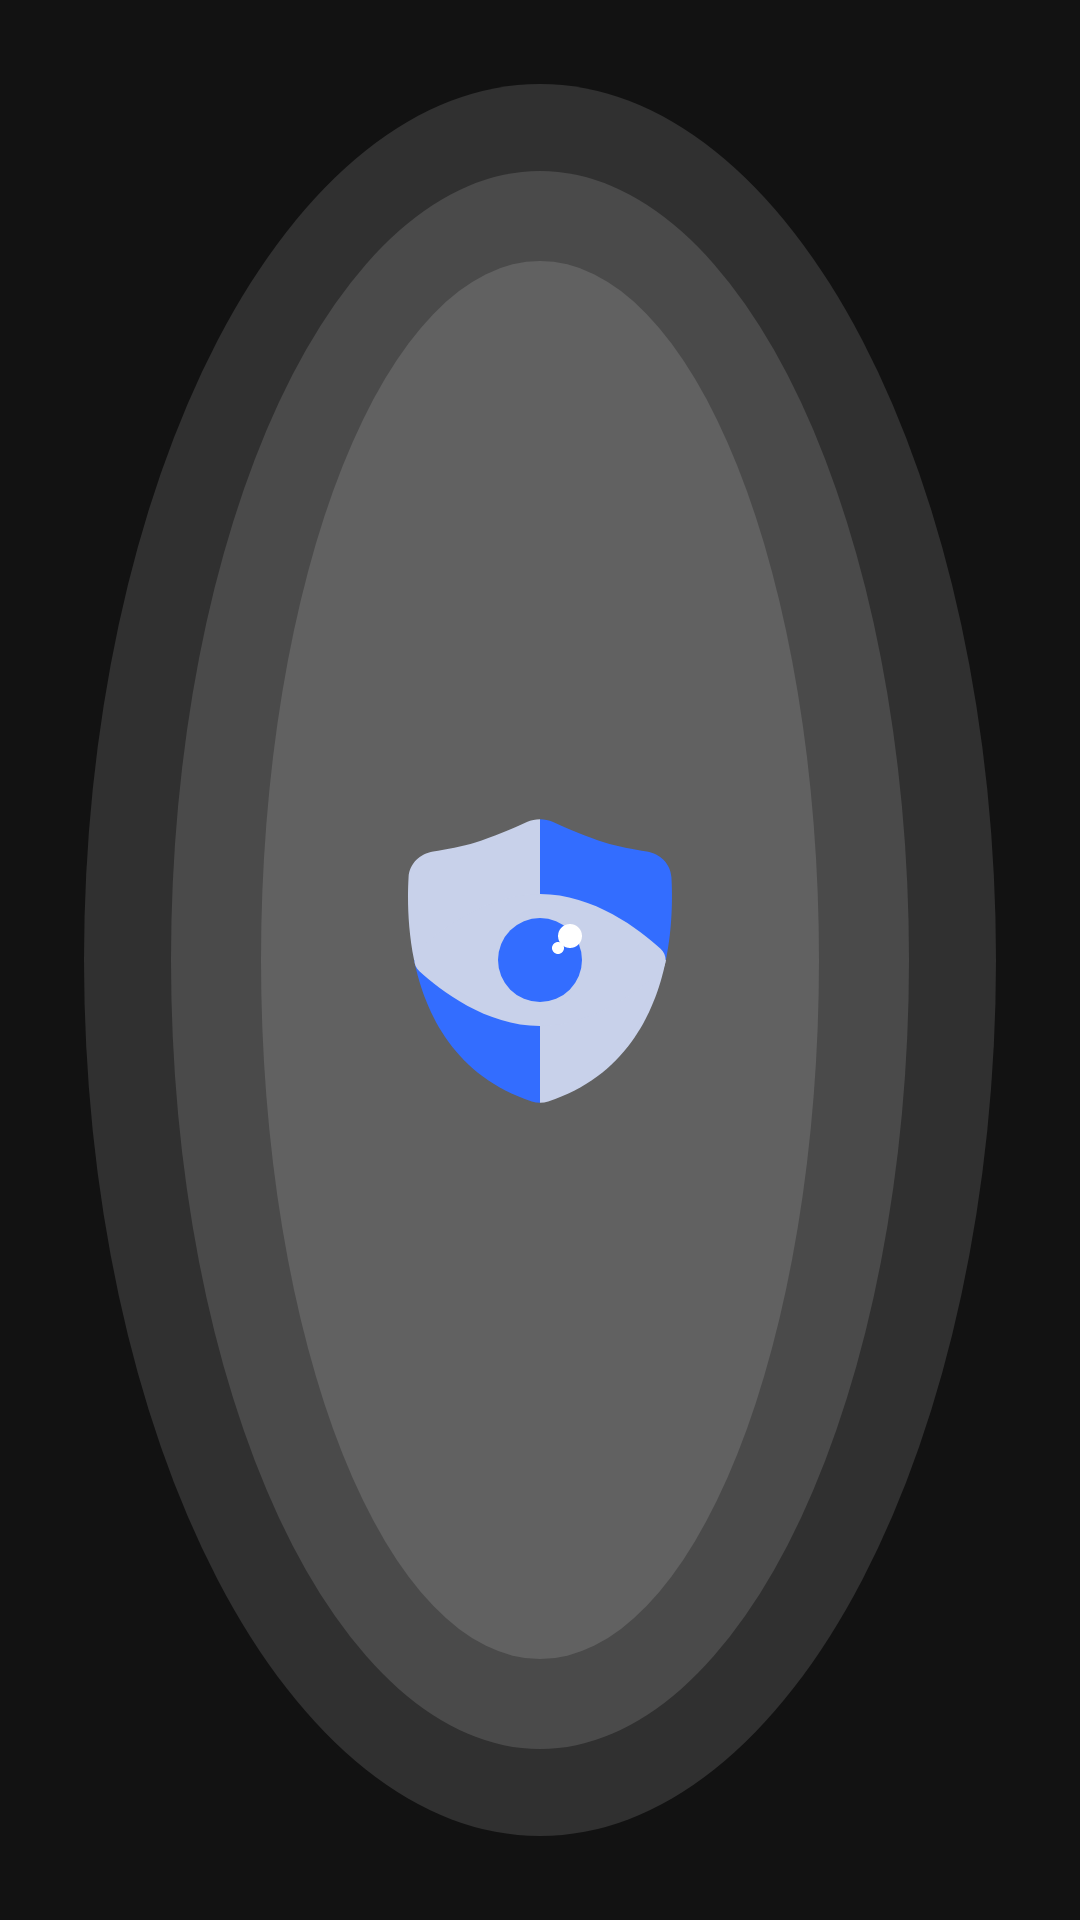

Icon bounding boxes for this 1080px x 1920px phone screenshot, format (x1, y1, x2, y2):
eye lock: (408, 819, 672, 1103)
